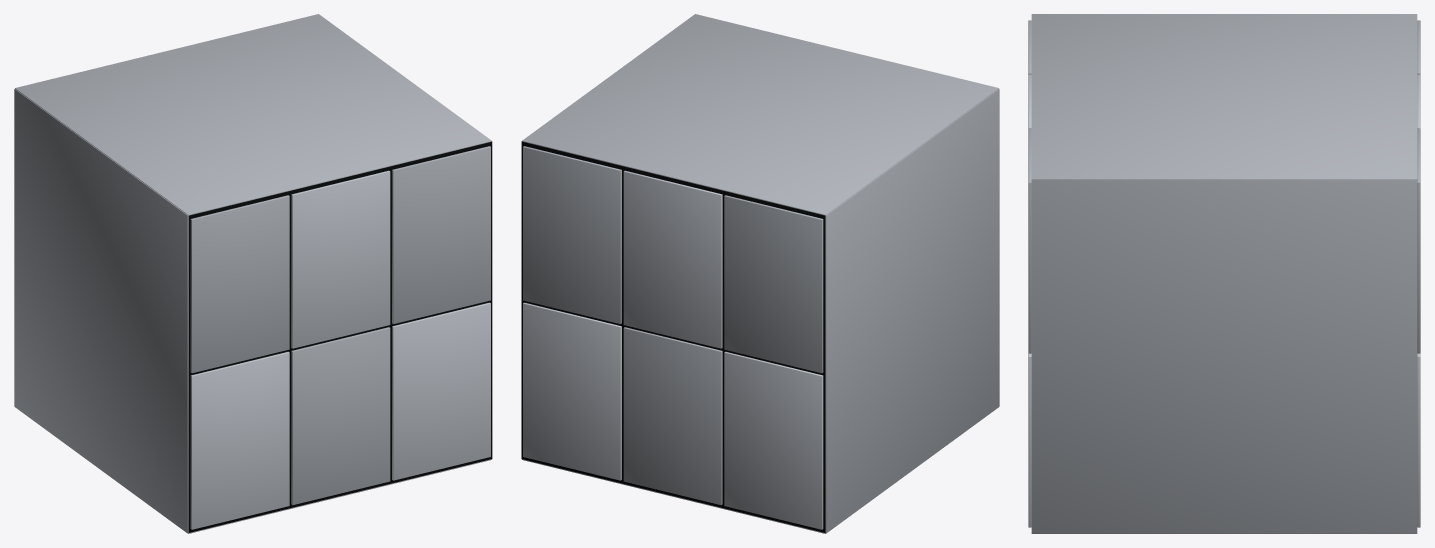
Rendered from wall.obj.
3 views of the same model, side by side, from view 1: azimuth 30°, elevation 25°; view 2: azimuth 150°, elevation 25°; view 3: azimuth 270°, elevation 25° (orthographic). The views are drawn at different scales.
Parts seen in each view (by area): view 1: Wall; view 2: Wall; view 3: Wall.
Part boxes in pixels (x1=…): Wall: x1=14, y1=14, x2=492, y2=533; Wall: x1=521, y1=14, x2=999, y2=533; Wall: x1=1028, y1=14, x2=1420, y2=533.
Bounding box in the file's own units: 1 × 1 × 1.
3 materials, 3 textured.
